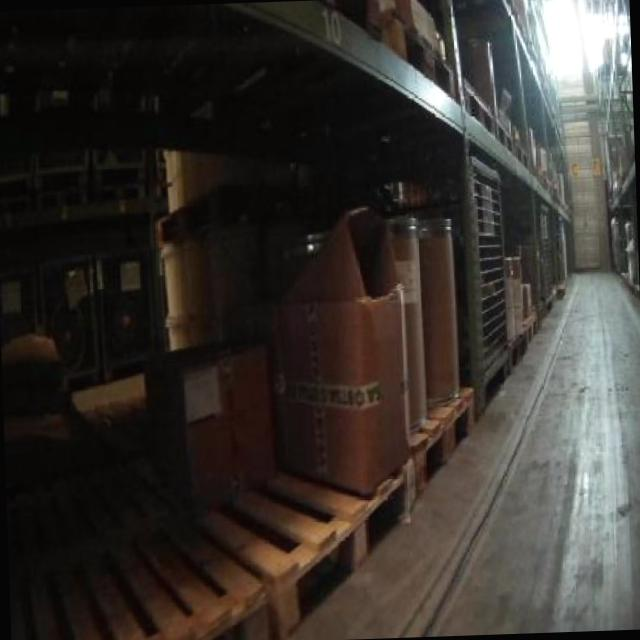pallet: (26, 470, 267, 640), (264, 466, 414, 624), (407, 391, 491, 498), (382, 16, 451, 90)
